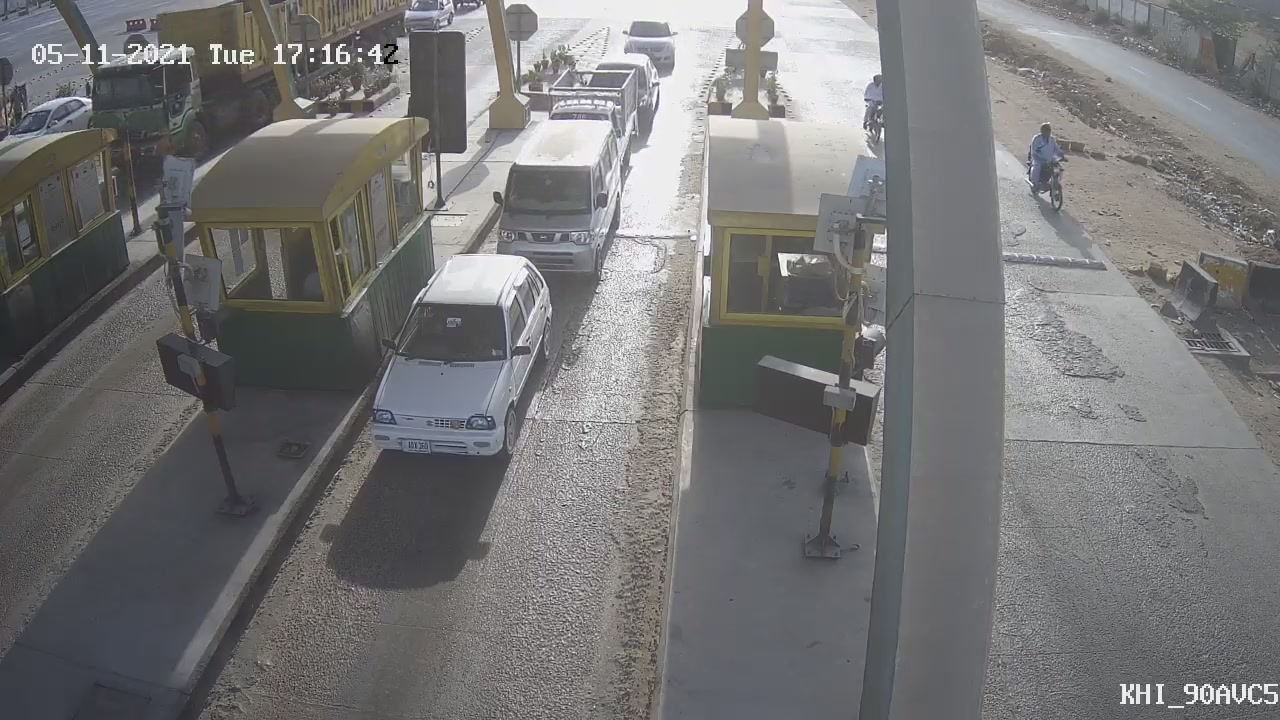F1: (343, 235, 576, 488), (468, 104, 635, 300)
